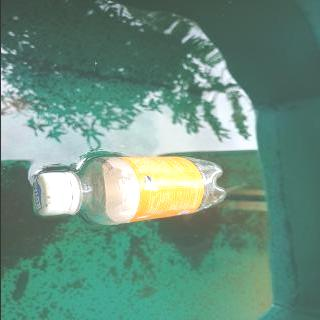bottle: (31, 156, 226, 226)
